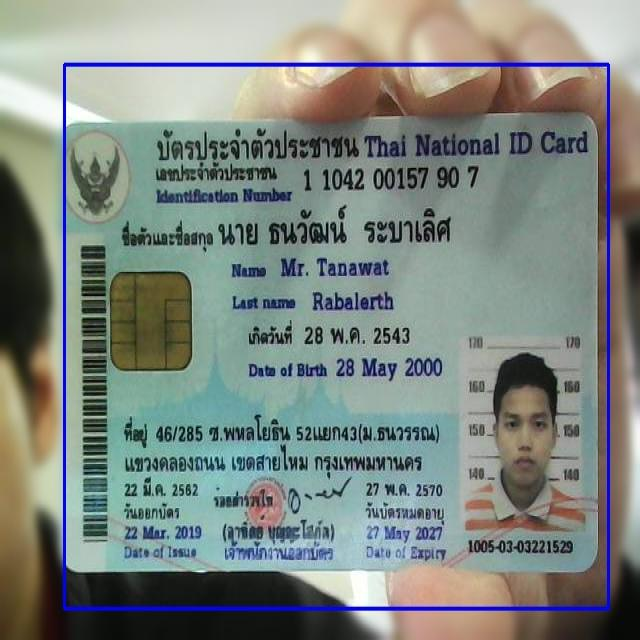Address_th: (113, 409, 449, 478)
Date_of_Birth: (333, 351, 445, 388)
Date_of_Expiry: (365, 522, 447, 544)
Date_of_Issue: (120, 523, 212, 544)
First_Name: (275, 251, 391, 282)
ID_Number: (298, 163, 485, 197)
Image: (464, 335, 584, 532)
Last_Name: (307, 286, 397, 316)
Thai_Name: (215, 202, 460, 256)
